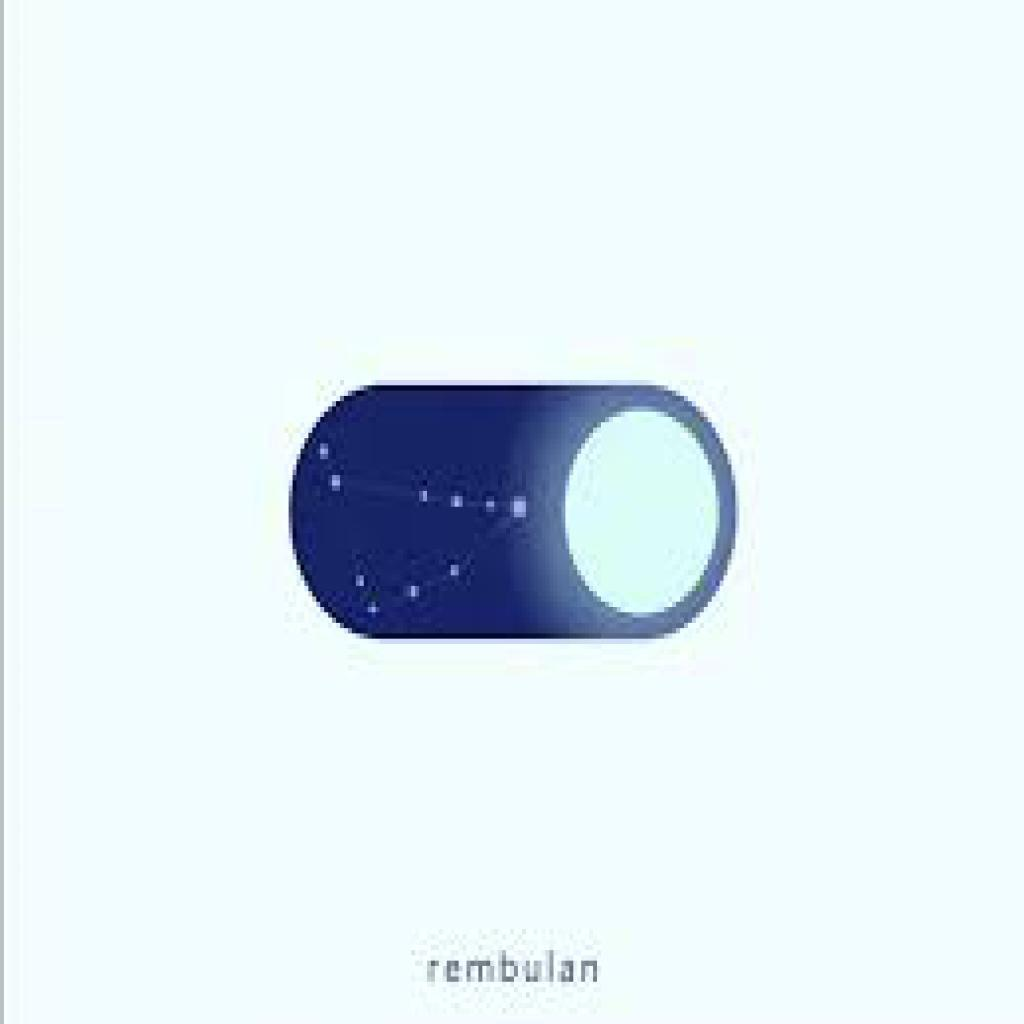switch: (288, 383, 738, 640)
